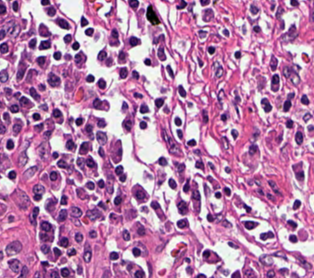nucleus: (146, 5, 159, 24), (168, 137, 180, 155), (268, 180, 281, 195), (192, 190, 200, 211), (23, 166, 36, 178), (86, 209, 100, 220), (18, 150, 27, 166), (48, 73, 59, 86), (261, 98, 271, 112), (271, 74, 279, 91), (30, 207, 38, 224), (56, 18, 69, 28), (96, 131, 106, 144), (17, 64, 25, 80), (203, 9, 213, 21), (39, 24, 49, 36), (135, 190, 145, 202), (178, 201, 187, 214), (243, 221, 257, 229), (75, 52, 85, 63), (33, 184, 44, 194), (71, 206, 81, 217), (40, 221, 51, 231), (79, 142, 88, 154), (270, 55, 277, 70), (157, 47, 165, 60), (260, 231, 273, 239), (30, 88, 39, 99), (58, 209, 66, 221), (215, 64, 222, 77), (129, 37, 139, 46), (86, 157, 95, 167), (177, 219, 187, 228), (123, 119, 131, 130), (276, 6, 283, 18), (166, 65, 173, 77), (0, 70, 7, 82), (177, 0, 186, 9), (59, 237, 68, 246), (39, 41, 49, 49), (98, 50, 106, 60), (20, 97, 30, 105), (93, 98, 101, 108), (249, 144, 257, 154), (202, 110, 208, 123), (178, 85, 185, 96), (40, 233, 51, 240), (129, 0, 138, 8), (250, 5, 258, 14), (97, 79, 105, 88), (155, 98, 163, 107), (140, 104, 148, 113), (97, 118, 105, 127), (66, 140, 74, 149), (195, 160, 203, 169), (115, 165, 123, 174), (29, 38, 36, 48), (0, 43, 7, 53), (118, 51, 125, 61), (37, 56, 44, 66), (120, 68, 127, 78), (137, 225, 144, 235), (47, 7, 55, 15), (218, 90, 222, 106), (10, 104, 18, 112), (53, 109, 61, 117), (158, 157, 166, 165), (86, 181, 94, 189), (151, 201, 159, 209), (13, 124, 20, 133), (6, 140, 13, 149), (76, 158, 83, 167), (57, 160, 66, 167), (50, 171, 57, 180), (169, 179, 176, 188), (60, 195, 67, 204), (75, 233, 82, 242), (0, 2, 5, 14), (123, 230, 129, 240), (85, 28, 93, 35), (64, 34, 71, 42), (53, 52, 61, 59), (86, 75, 94, 82), (174, 117, 181, 125), (114, 196, 121, 204), (81, 17, 87, 26), (111, 29, 117, 38), (231, 129, 237, 138), (183, 182, 189, 191), (228, 242, 237, 248), (12, 1, 17, 11), (0, 123, 5, 133), (72, 42, 79, 49), (35, 124, 42, 131), (177, 164, 184, 171), (8, 171, 15, 178), (267, 193, 274, 200), (98, 202, 105, 209), (243, 204, 250, 211), (89, 230, 96, 237), (208, 46, 214, 54), (86, 124, 92, 132), (187, 139, 195, 145), (98, 148, 104, 156), (224, 187, 230, 195), (200, 0, 209, 5), (0, 29, 5, 38), (3, 113, 8, 122), (177, 129, 182, 138), (253, 26, 260, 32), (234, 51, 240, 58), (132, 71, 138, 78), (33, 113, 40, 119), (76, 118, 82, 125), (140, 121, 146, 128), (44, 131, 50, 138), (208, 162, 214, 169), (98, 180, 104, 187), (207, 214, 213, 221), (122, 102, 127, 110), (199, 30, 205, 36), (144, 59, 150, 65), (34, 194, 40, 200), (223, 29, 228, 36), (221, 114, 226, 121), (120, 174, 125, 181), (41, 0, 49, 4), (198, 58, 202, 66), (134, 93, 142, 97), (235, 95, 239, 103), (39, 84, 44, 90), (40, 104, 46, 109), (215, 192, 220, 198), (65, 54, 70, 59), (15, 92, 20, 97), (52, 152, 57, 157), (225, 167, 230, 172), (258, 189, 263, 194), (142, 207, 147, 212), (223, 137, 227, 143), (194, 150, 199, 154), (271, 2, 273, 10), (188, 102, 192, 106), (9, 216, 13, 220), (165, 108, 168, 112), (225, 145, 227, 148)
